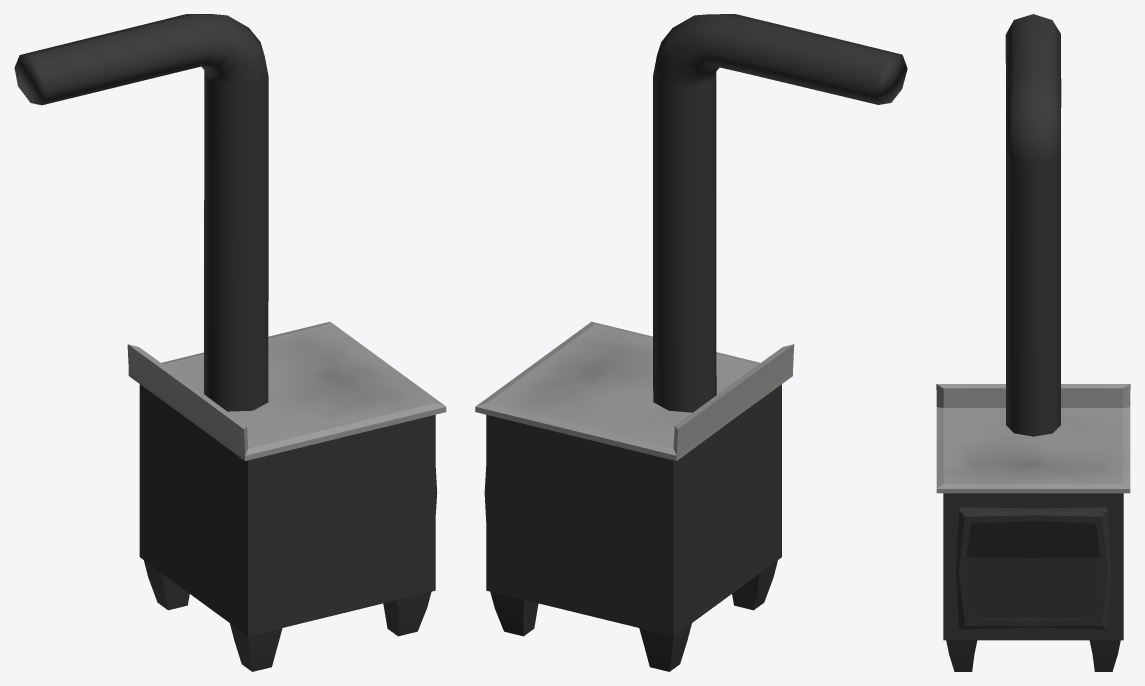
File: stove.fbx
The picture shows the model from 3 angles, left to right: view 1: azimuth 30°, elevation 25°; view 2: azimuth 150°, elevation 25°; view 3: azimuth 270°, elevation 25°; orthographic projection. The views are drawn at different scales.
Visible parts, largest first — view 1: stove; view 2: stove; view 3: stove.
Boxes of the visible parts, <box> form: stove: <box>14,14,446,671</box>; stove: <box>475,14,907,671</box>; stove: <box>936,14,1130,671</box>.
Size of the model in its own units: 1.93 by 3.18 by 1.08.
2 materials, 1 textured.
